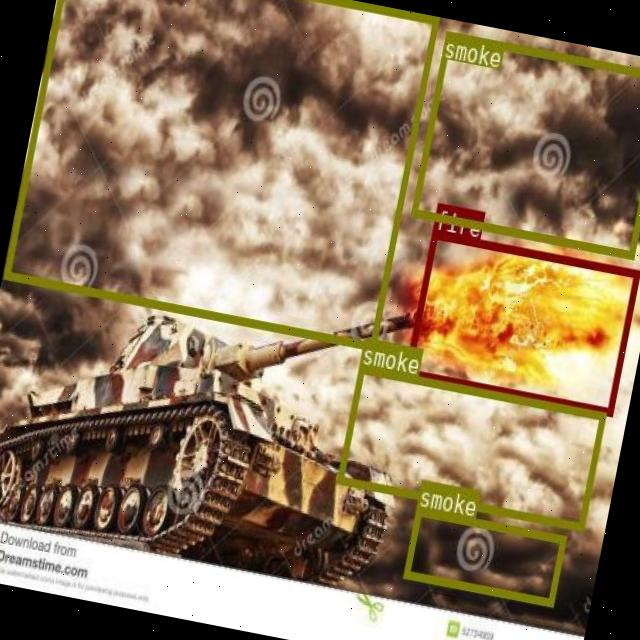fire: (404, 230, 640, 414)
smoke: (4, 0, 437, 348), (410, 30, 640, 257), (337, 365, 606, 530), (402, 506, 566, 606)
